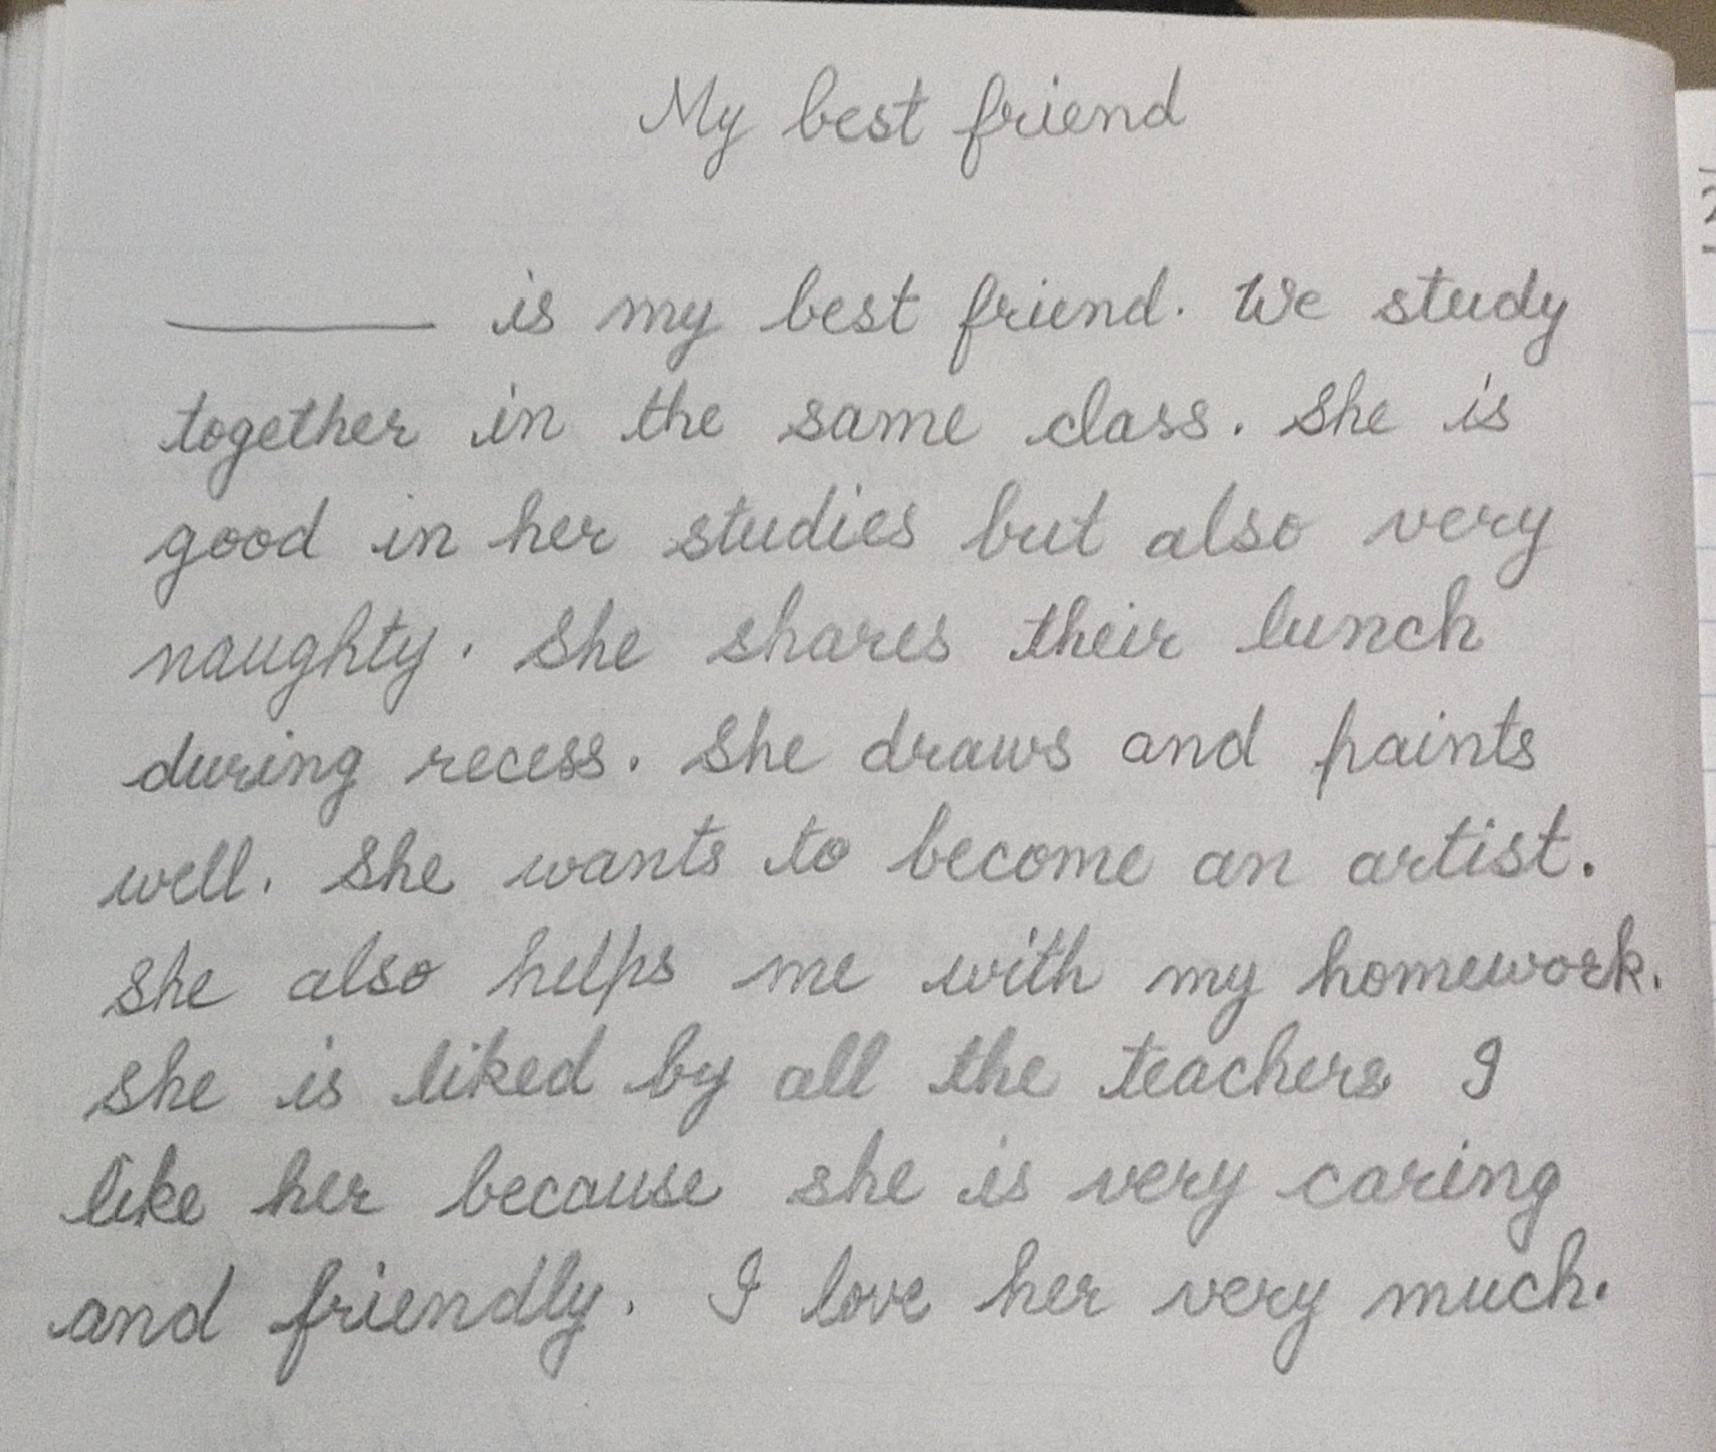text: (39, 1223, 1621, 1400), (92, 906, 1668, 1053), (112, 566, 1494, 732), (50, 1122, 1572, 1266), (117, 684, 1547, 837), (134, 471, 1563, 618), (154, 359, 1519, 508), (85, 795, 1599, 925), (75, 1013, 1513, 1147), (478, 256, 1578, 385), (628, 55, 1194, 189)
